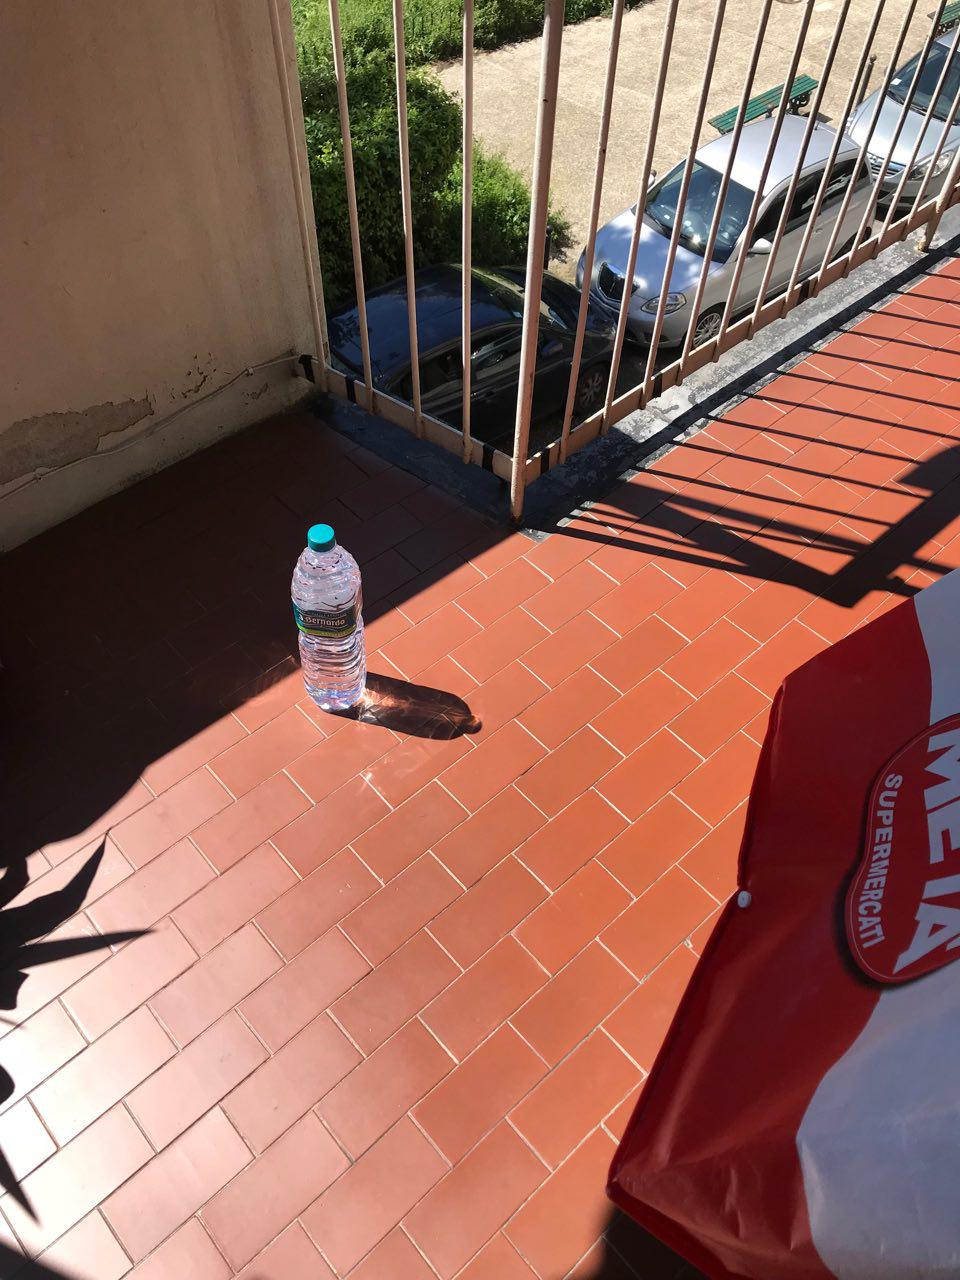san_bernardo: (289, 522, 366, 711)
